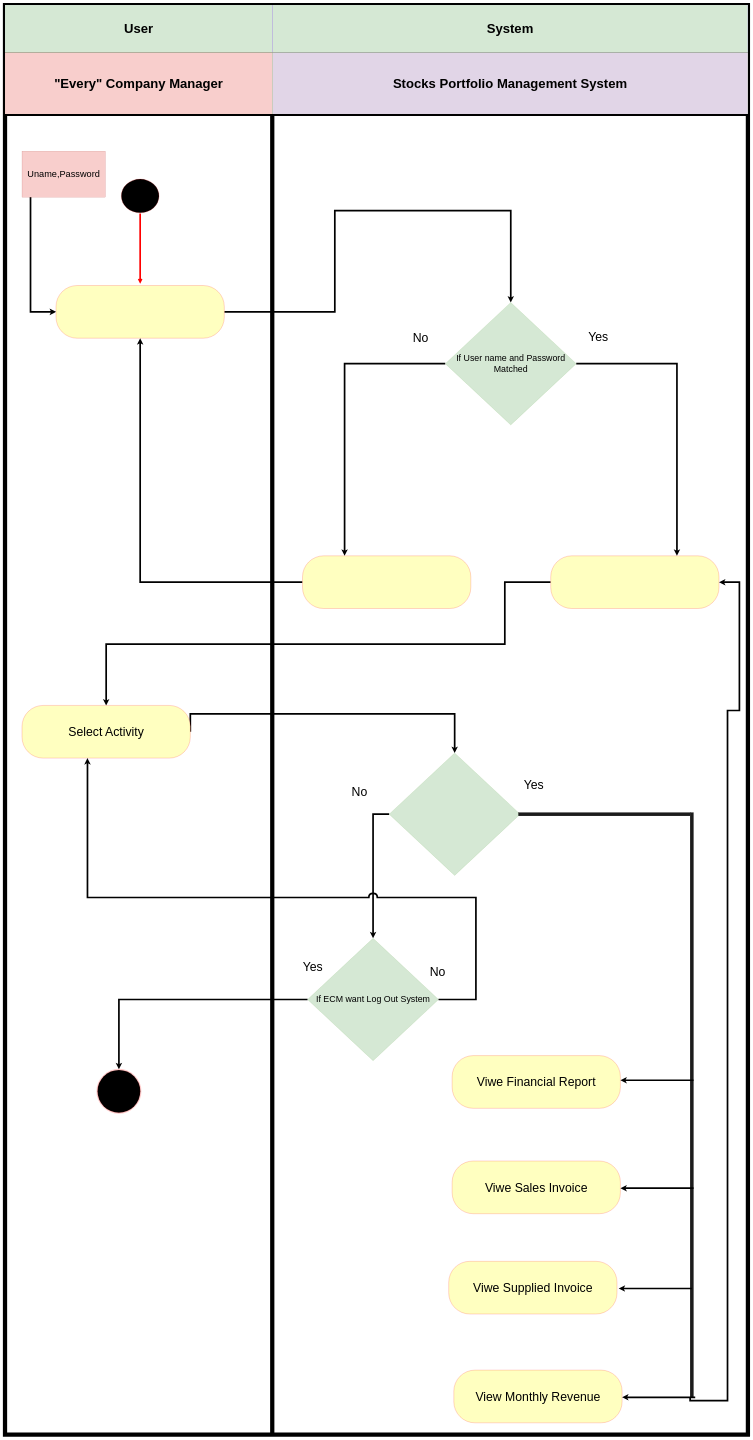
Image size: 753x1440. Some labels were removed from this diagram. Here are the shapes that lost their labels. From the top down, the box of each, then its label:
(56, 285, 224, 338): Login System
(302, 556, 471, 609): Display Error Message "Login Again"
(551, 556, 719, 609): Display ECM Activites
(389, 753, 520, 875): If Activity Selected
